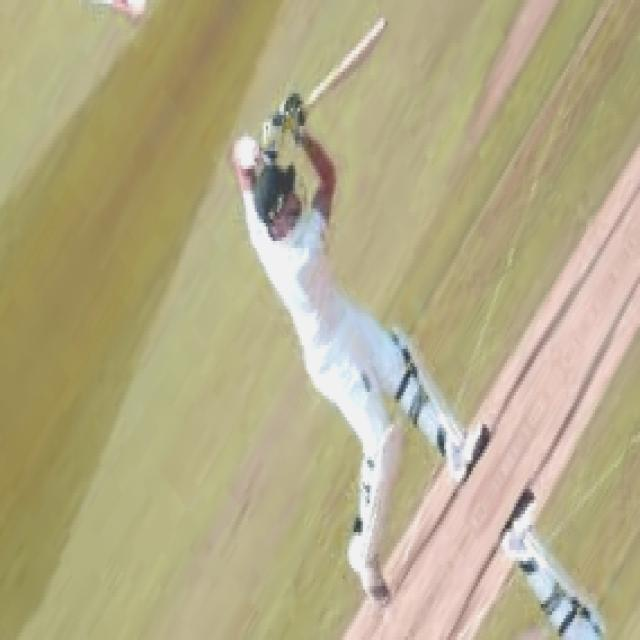bat: (305, 19, 386, 120)
